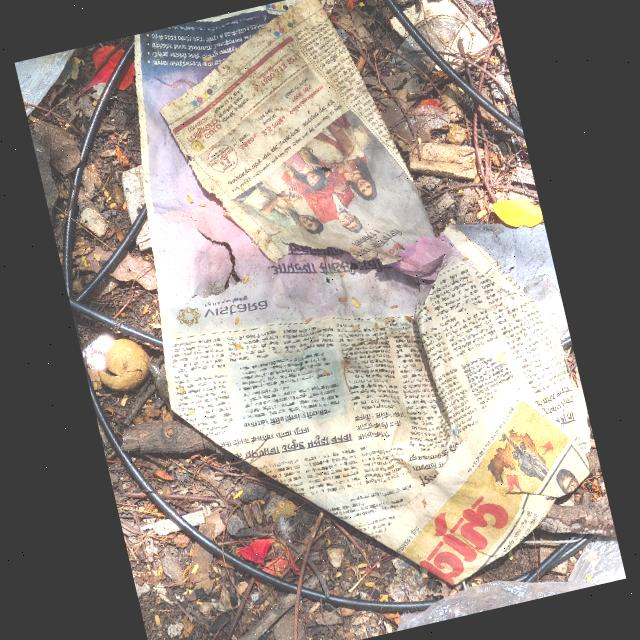trash: (85, 0, 617, 639), (139, 0, 442, 310)
